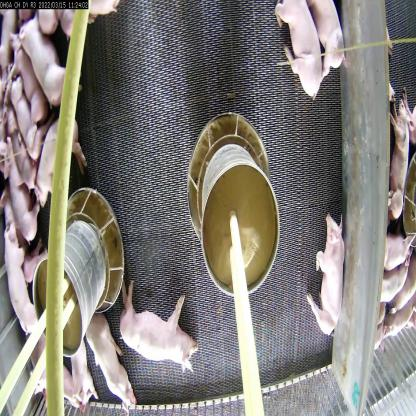Pig: (119, 278, 197, 373), (272, 1, 324, 105), (16, 15, 72, 110), (36, 116, 93, 207), (85, 312, 134, 414), (0, 216, 38, 343), (2, 128, 39, 244), (310, 214, 343, 340), (304, 0, 348, 88), (9, 76, 40, 156), (62, 341, 99, 403)
